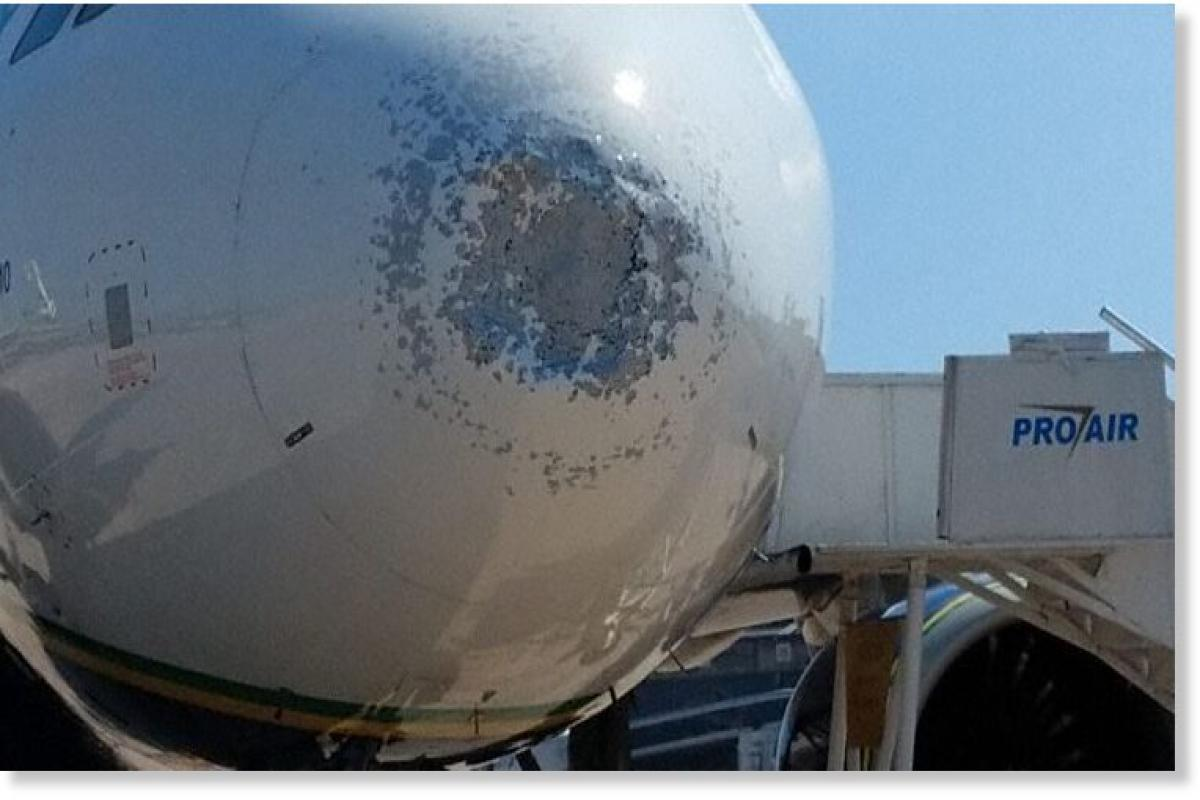Fuselage_damage: (350, 11, 751, 509), (512, 195, 633, 351)
